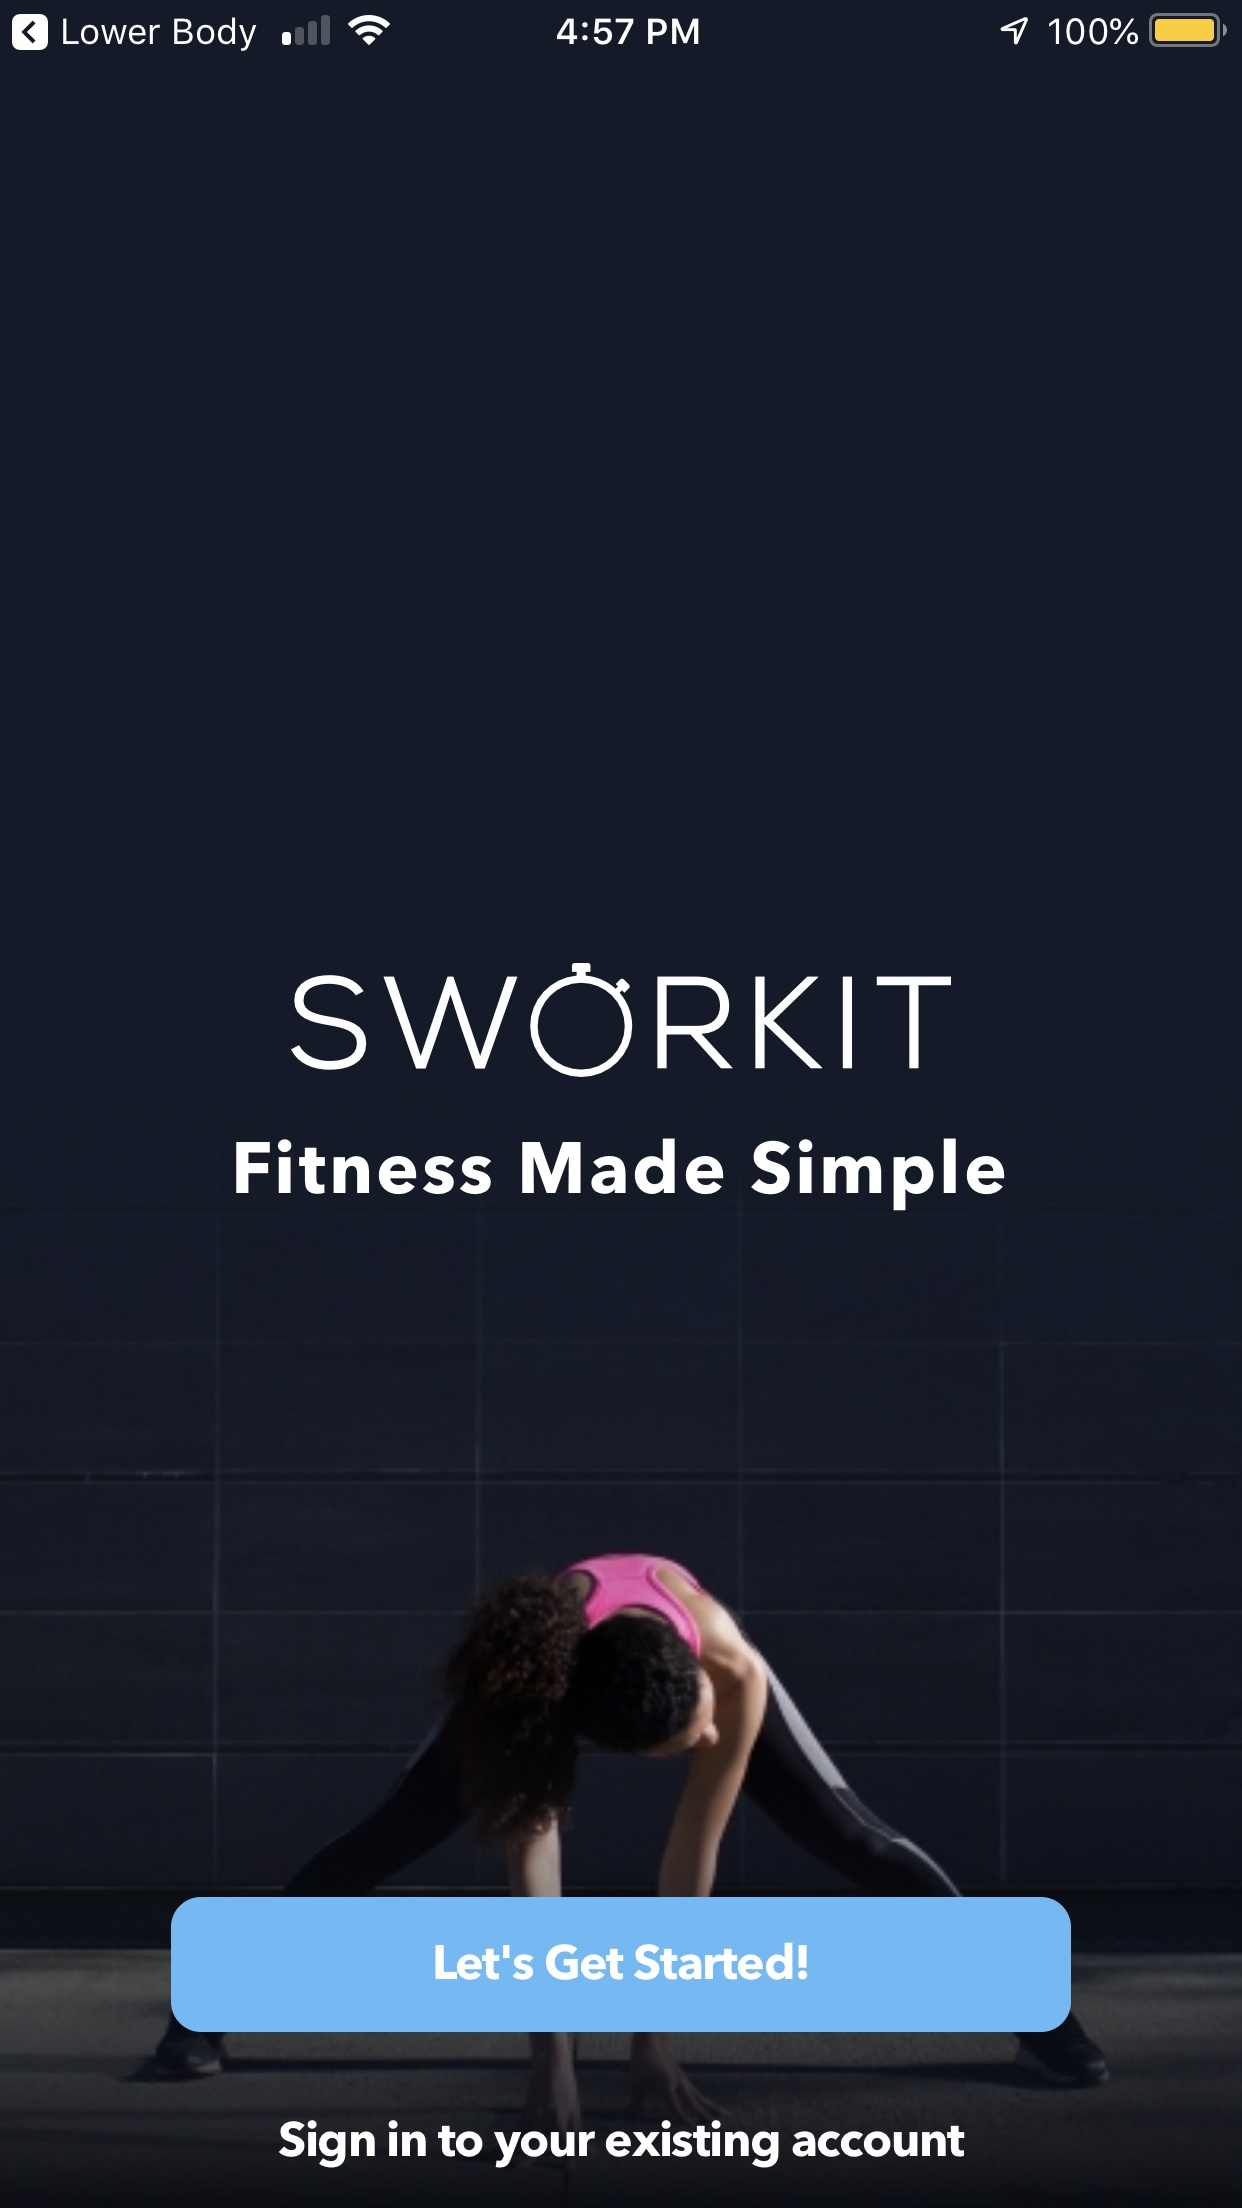BackgroundImage: (2, 2, 1242, 2208)
Image: (290, 963, 954, 1080)
Text: (235, 1137, 1005, 1212), (278, 2119, 966, 2169)
TextButton: (171, 1896, 1074, 2034)
UpperTaskBar: (2, 2, 1242, 49)
